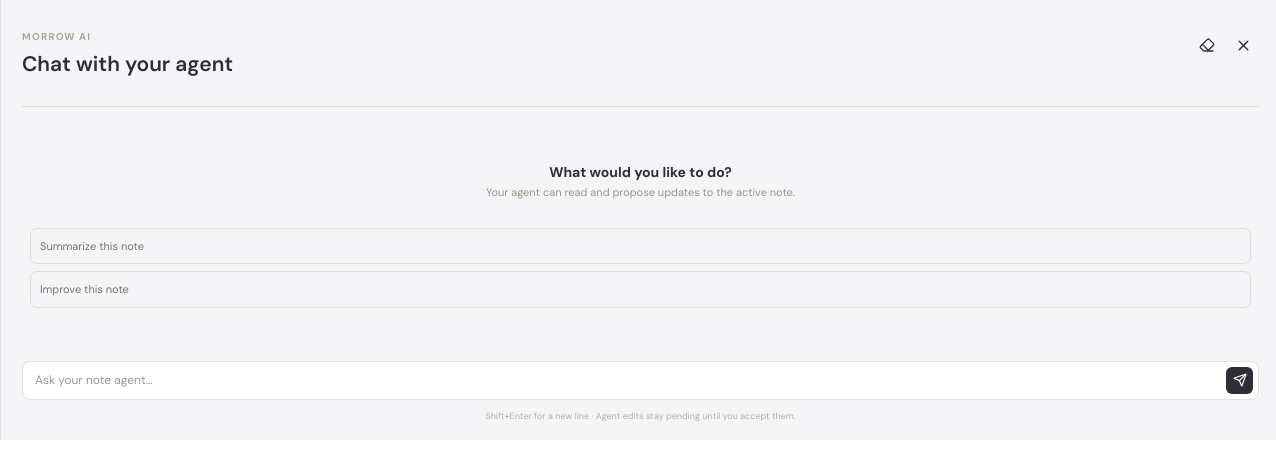
Test: AgentPanel › keeps note change proposal metadata out of the chat message
This screenshot has width=1276, height=457.
Type "Fix the note" into the text box named "Chat message" at (628, 380), box [35,366,1220,394]
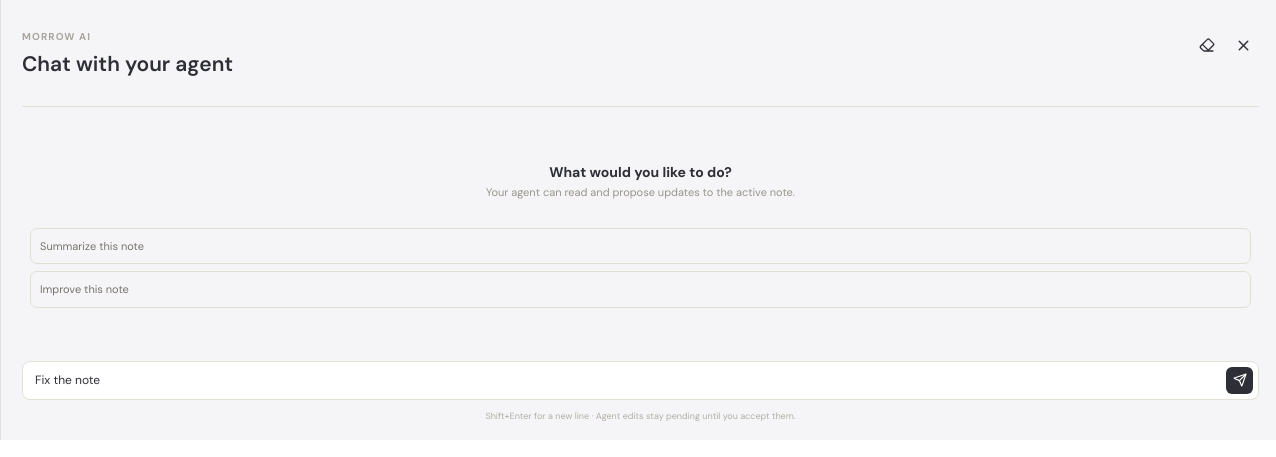
Click the button named "Send message" at (1240, 380), box [1226,366,1253,394]
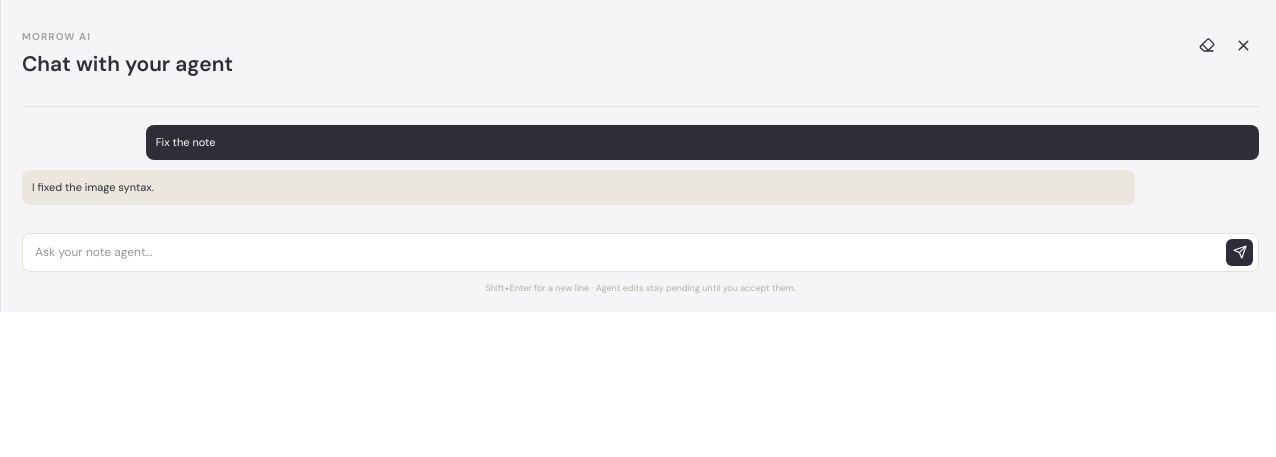
Result: the text "I fixed the image syntax." is shown at [32,180,154,194]
